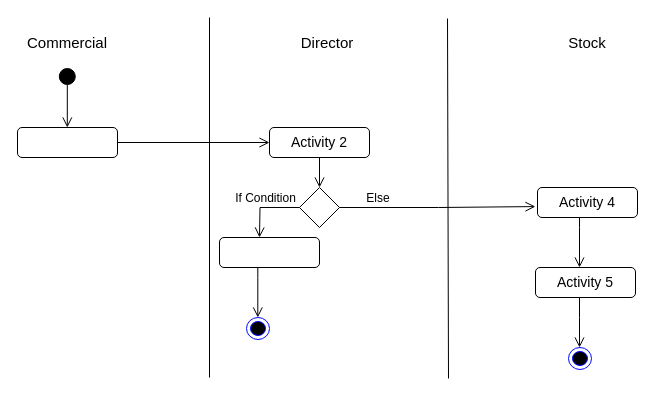
Some shapes in this 655 by 397 pixel diagram are drawn without their labels. Each missing label, with the centre of its shape:
"Activity 1" belongs at point 67,142.
"Activity 3" belongs at point 269,252.
